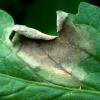Potato leaf late blight: (0, 1, 99, 97)
